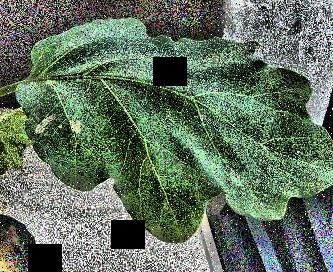HEALTHY: (1, 0, 333, 272)
